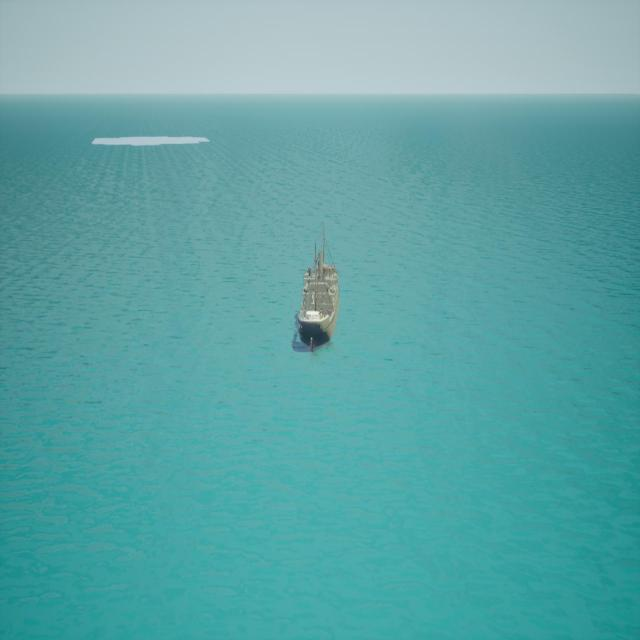fishing ship: (296, 226, 342, 351)
